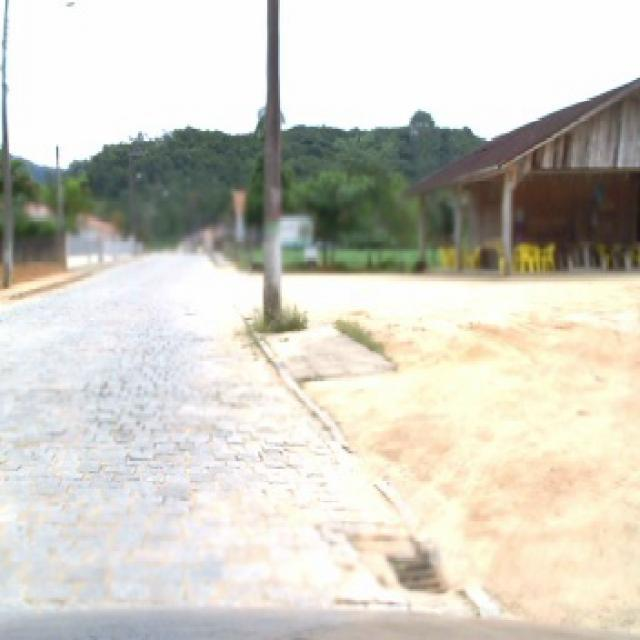Poth-hole: (376, 542, 451, 598)
